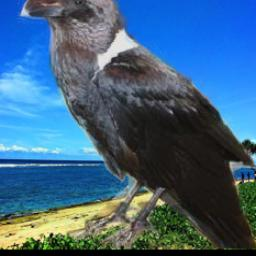Crow: (19, 0, 256, 248)
